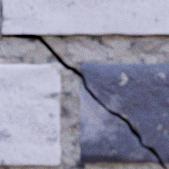brick: (0, 65, 60, 164), (2, 0, 168, 35)
broken_brick: (80, 62, 168, 162), (79, 78, 157, 162)
crack: (0, 0, 167, 168)
